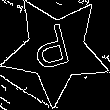P_S: (32, 21, 80, 80)
